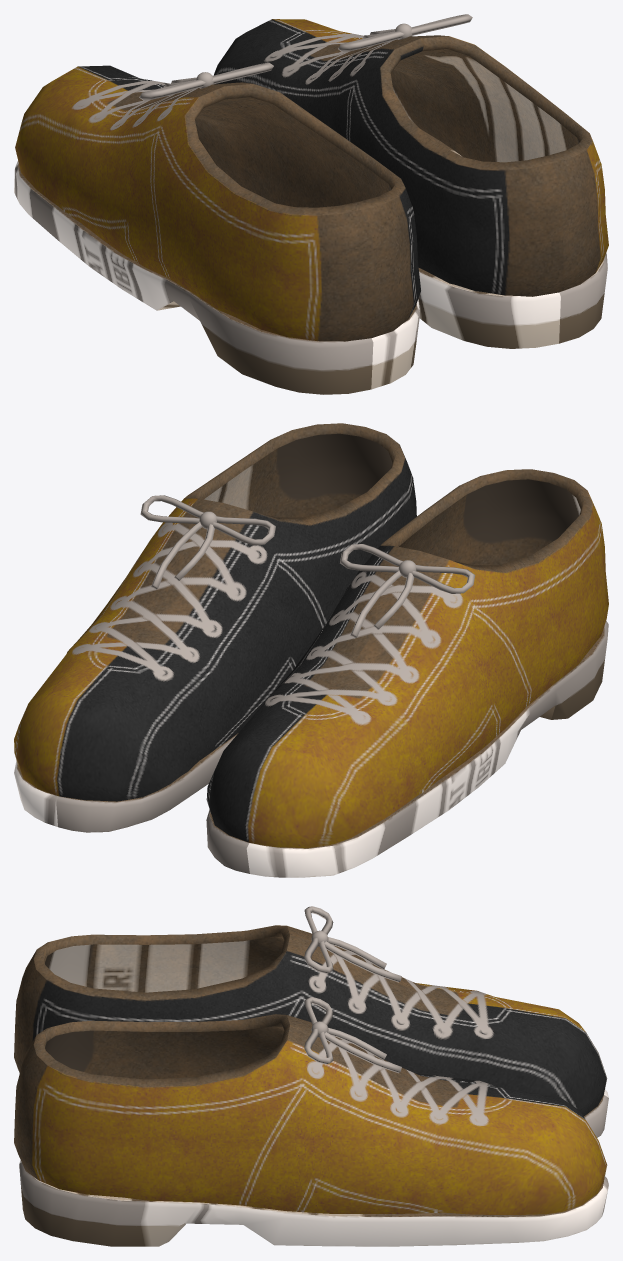
The model's file is SM_BowlingShoesC1.fbx.
3 renders of one model, top to bottom at view 1: azimuth 30°, elevation 25°; view 2: azimuth 150°, elevation 25°; view 3: azimuth 270°, elevation 25°, orthographic. The views are drawn at different scales.
Parts seen in each view (by area): view 1: SM_BowlingShoesC1_LOD0; view 2: SM_BowlingShoesC1_LOD0; view 3: SM_BowlingShoesC1_LOD0.
Part boxes in pixels (bbox=[...]): SM_BowlingShoesC1_LOD0: bbox=[14, 14, 608, 394]; SM_BowlingShoesC1_LOD0: bbox=[14, 423, 608, 877]; SM_BowlingShoesC1_LOD0: bbox=[14, 906, 608, 1246].
Bounding box in the file's own units: 20.72 × 30.73 × 10.8.
Materials: 1 (1 with a texture image).
